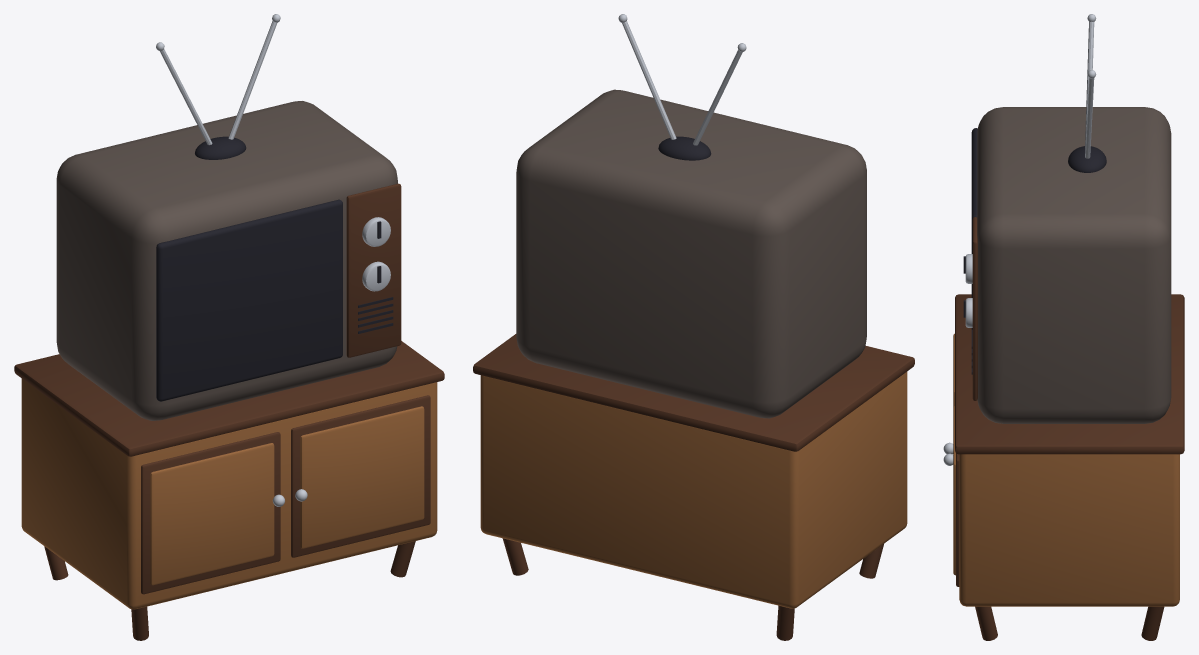
File: PropRetroTV.fbx
The picture shows the model from 3 angles, left to right: view 1: azimuth 30°, elevation 25°; view 2: azimuth 150°, elevation 25°; view 3: azimuth 270°, elevation 25°; orthographic projection. The views are drawn at different scales.
Visible parts, largest first — view 1: Wood, Case, DarkWood, Dark, Steel; view 2: Case, Wood, DarkWood, Steel, Dark; view 3: Case, Wood, DarkWood, Dark, Steel.
Part boxes in pixels (box(x1,y1,x2,y2)): Wood: box(21, 378, 437, 609); Case: box(56, 101, 397, 420); DarkWood: box(14, 183, 444, 640); Dark: box(156, 136, 393, 401); Steel: box(156, 14, 390, 506); Case: box(516, 89, 866, 418); Wood: box(480, 371, 907, 608); DarkWood: box(473, 334, 914, 640); Steel: box(618, 14, 746, 145); Dark: box(658, 136, 711, 160); Case: box(977, 107, 1171, 423); Wood: box(953, 333, 1179, 606); DarkWood: box(955, 217, 1184, 640); Dark: box(963, 128, 1106, 374); Steel: box(943, 14, 1096, 465).
Size of the model in its own units: 410 by 667 by 273.
